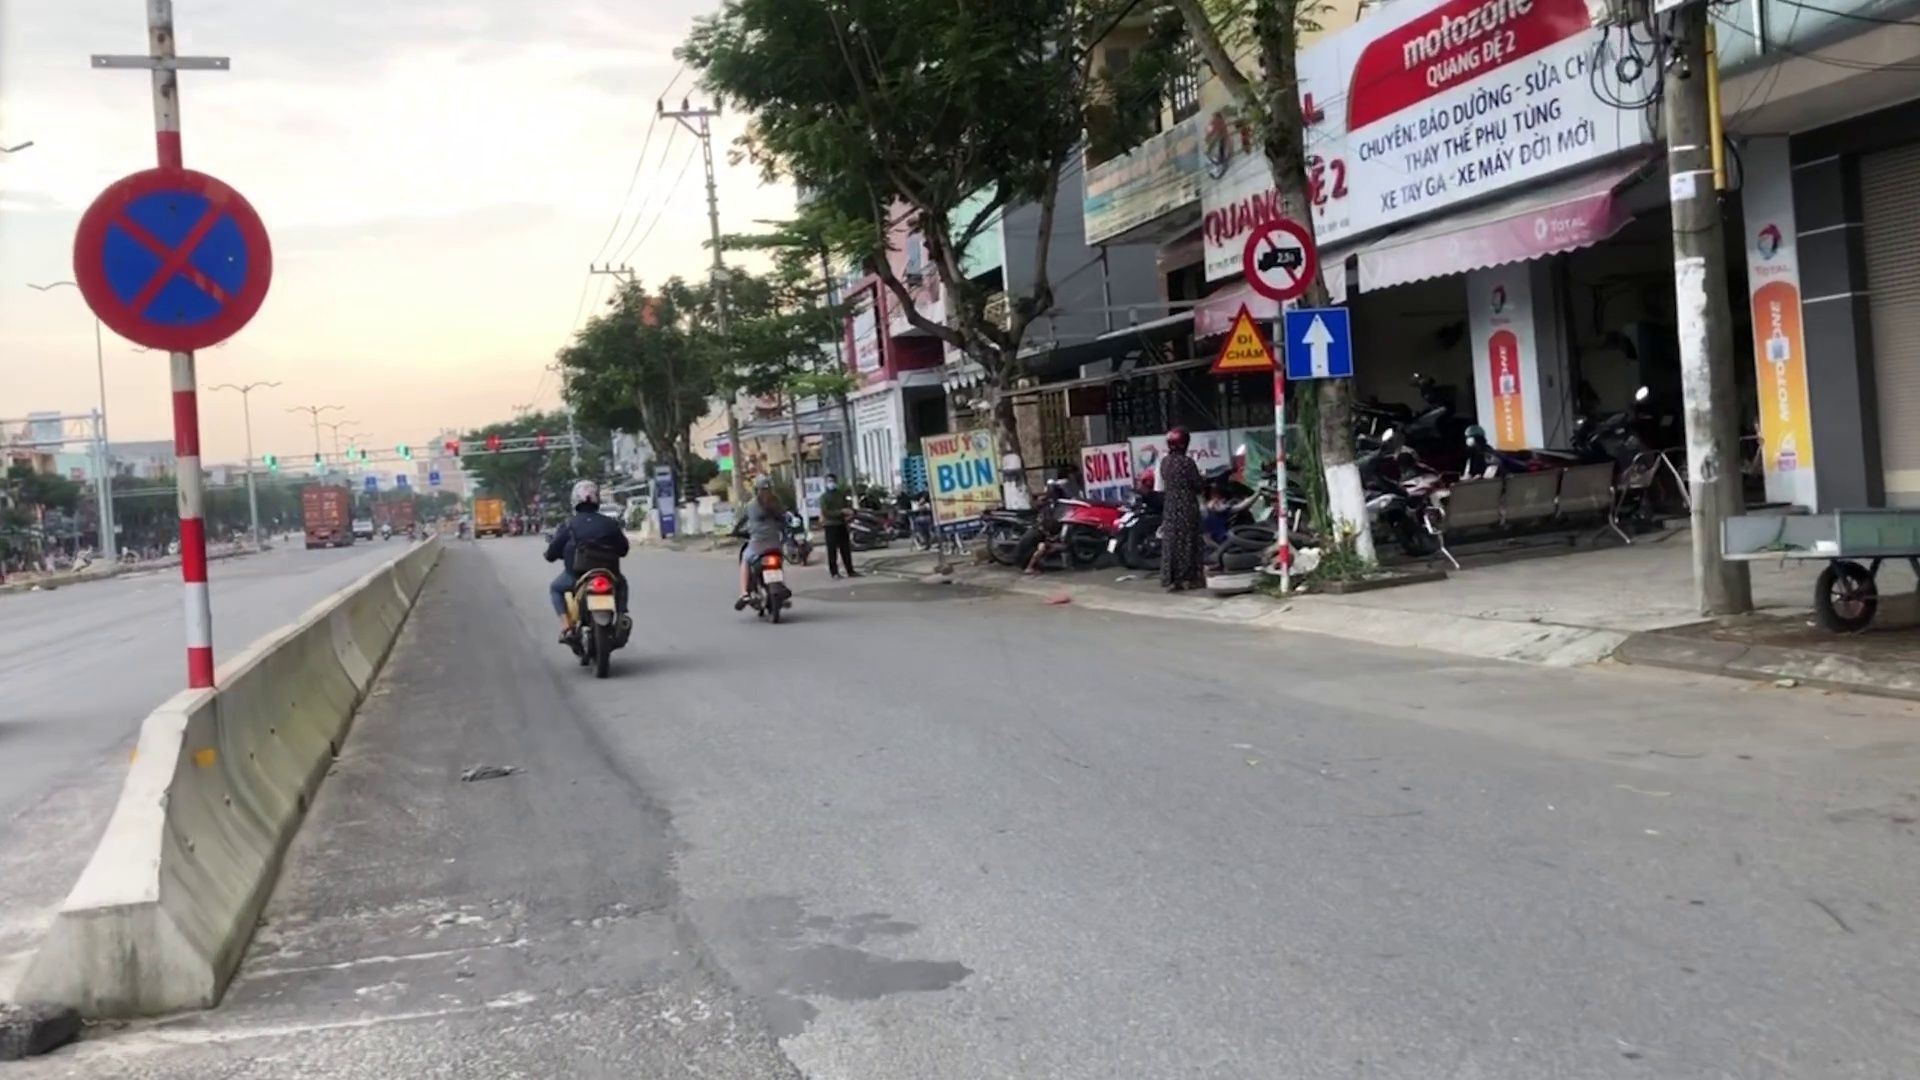Bien khac: (65, 166, 278, 353), (1240, 220, 1320, 305), (1207, 299, 1280, 373), (1283, 307, 1352, 380)
